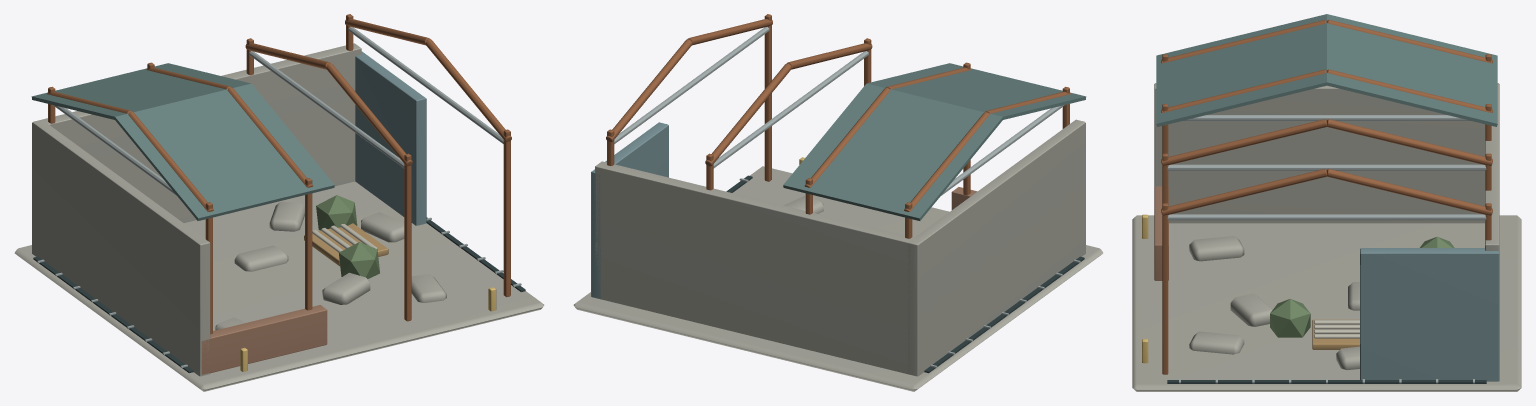
File: DamagedWarehouse.glb
3 renders of one model, left to right at view 1: azimuth 30°, elevation 25°; view 2: azimuth 150°, elevation 25°; view 3: azimuth 270°, elevation 25°, orthographic. The views are drawn at different scales.
Parts seen in each view (by area): view 1: Service apron.003, Retained west wall, Surviving roof panels, Rear wall, East corner, Low front wall, Steel column.004, Steel column.006, Tie beam.002, Tie beam.003, Volunteer scrub.001, Volunteer scrub (+17 smaller); view 2: Rear wall, Retained west wall, Surviving roof panels, Service apron.003, East corner, Tie beam.002, Tie beam.003, Steel column.006, Exposed truss.005, Exposed truss.007, Drain channel.006, Tie beam (+4 smaller); view 3: Service apron.003, Retained west wall, Surviving roof panels, East corner, Tie beam.003, Tie beam.002, Tie beam.001, Rear wall, Exposed truss.006, Exposed truss.007, Exposed truss.004, Exposed truss.005 (+13 smaller).
Part boxes in pixels (left/top/right/bottom): Service apron.003: left=14, top=181, right=544, bottom=391; Retained west wall: left=32, top=120, right=210, bottom=376; Surviving roof panels: left=31, top=63, right=334, bottom=220; Rear wall: left=37, top=43, right=361, bottom=222; East corner: left=355, top=51, right=426, bottom=225; Low front wall: left=201, top=305, right=327, bottom=374; Steel column.004: left=404, top=153, right=411, bottom=321; Steel column.006: left=503, top=129, right=510, bottom=297; Tie beam.002: left=249, top=51, right=404, bottom=168; Tie beam.003: left=348, top=27, right=503, bottom=143; Volunteer scrub.001: left=339, top=242, right=379, bottom=278; Volunteer scrub: left=316, top=195, right=357, bottom=230; Rear wall: left=595, top=161, right=919, bottom=375; Retained west wall: left=908, top=119, right=1085, bottom=376; Surviving roof panels: left=783, top=63, right=1086, bottom=220; Service apron.003: left=573, top=166, right=1103, bottom=391; East corner: left=591, top=122, right=668, bottom=299; Tie beam.002: left=713, top=51, right=868, bottom=168; Tie beam.003: left=614, top=27, right=769, bottom=143; Steel column.006: left=764, top=14, right=771, bottom=181; Exposed truss.005: left=705, top=63, right=791, bottom=166; Exposed truss.007: left=606, top=39, right=692, bottom=141; Drain channel.006: left=924, top=256, right=1084, bottom=373; Tie beam: left=941, top=105, right=1064, bottom=195; Service apron.003: left=1132, top=215, right=1521, bottom=391; Retained west wall: left=1154, top=83, right=1499, bottom=223; Surviving roof panels: left=1156, top=14, right=1497, bottom=126; East corner: left=1360, top=248, right=1499, bottom=381; Tie beam.003: left=1167, top=214, right=1486, bottom=220; Tie beam.002: left=1167, top=164, right=1486, bottom=170; Tie beam.001: left=1183, top=115, right=1470, bottom=120; Rear wall: left=1485, top=85, right=1499, bottom=251; Exposed truss.006: left=1161, top=169, right=1326, bottom=215; Exposed truss.007: left=1327, top=169, right=1492, bottom=215; Exposed truss.004: left=1161, top=119, right=1326, bottom=165; Exposed truss.005: left=1327, top=119, right=1492, bottom=165.
Bounding box in the file's own units: 11.1 × 6.5 × 10.6.
